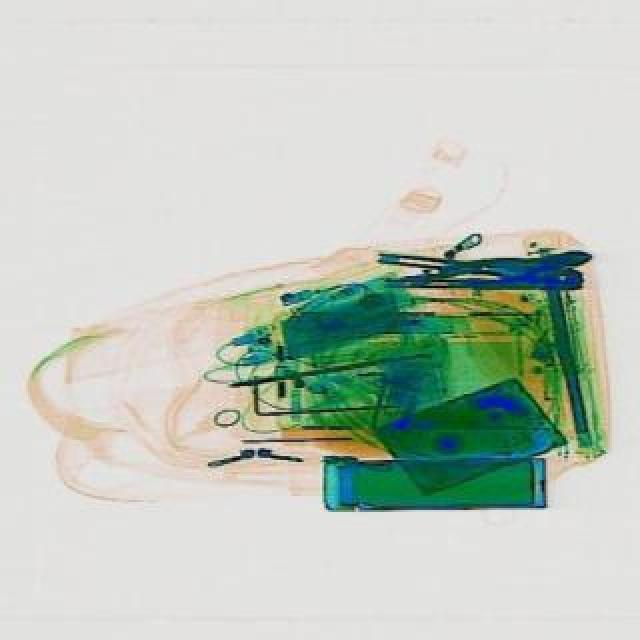wrench: (396, 238, 594, 302), (370, 250, 582, 298)
